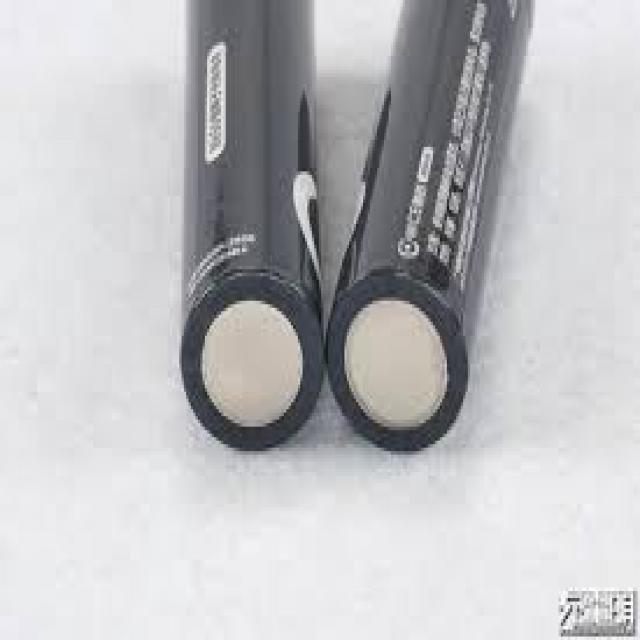battery: (326, 0, 535, 454), (185, 0, 326, 452)
